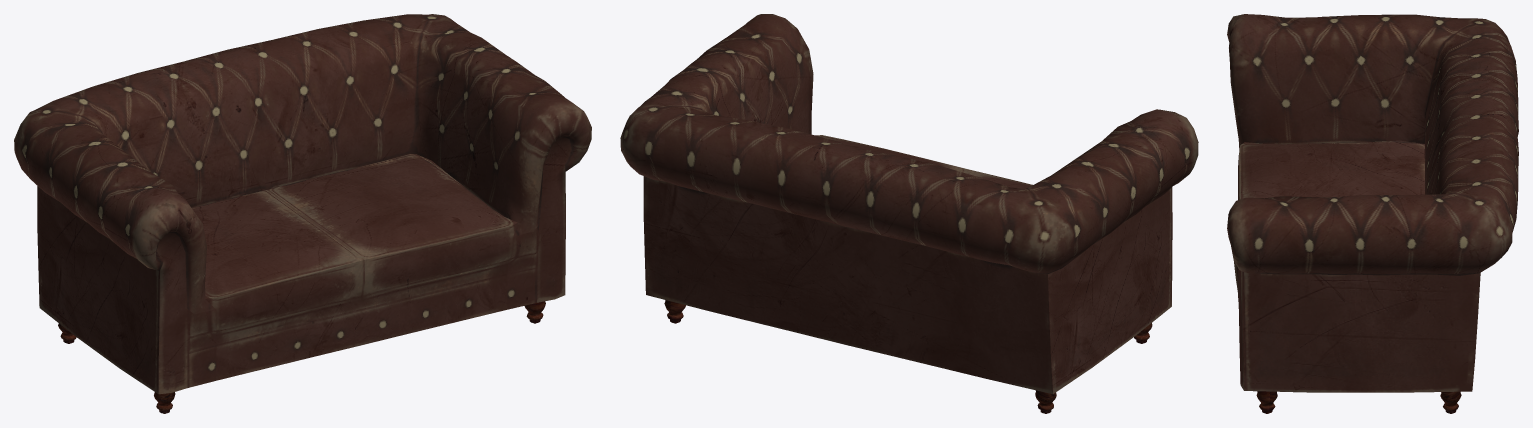
The model's file is Prop_Sofa_1.fbx.
3 renders of one model, left to right at view 1: azimuth 30°, elevation 25°; view 2: azimuth 150°, elevation 25°; view 3: azimuth 270°, elevation 25°, orthographic. The views are drawn at different scales.
Parts seen in each view (by area): view 1: Prop_Sofa_1; view 2: Prop_Sofa_1; view 3: Prop_Sofa_1.
Part boxes in pixels (left/top/right/bottom): Prop_Sofa_1: left=14, top=14, right=591, bottom=413; Prop_Sofa_1: left=620, top=14, right=1198, bottom=413; Prop_Sofa_1: left=1227, top=14, right=1518, bottom=413.
Size of the model in its own units: 94.15 by 45.51 by 54.27.
